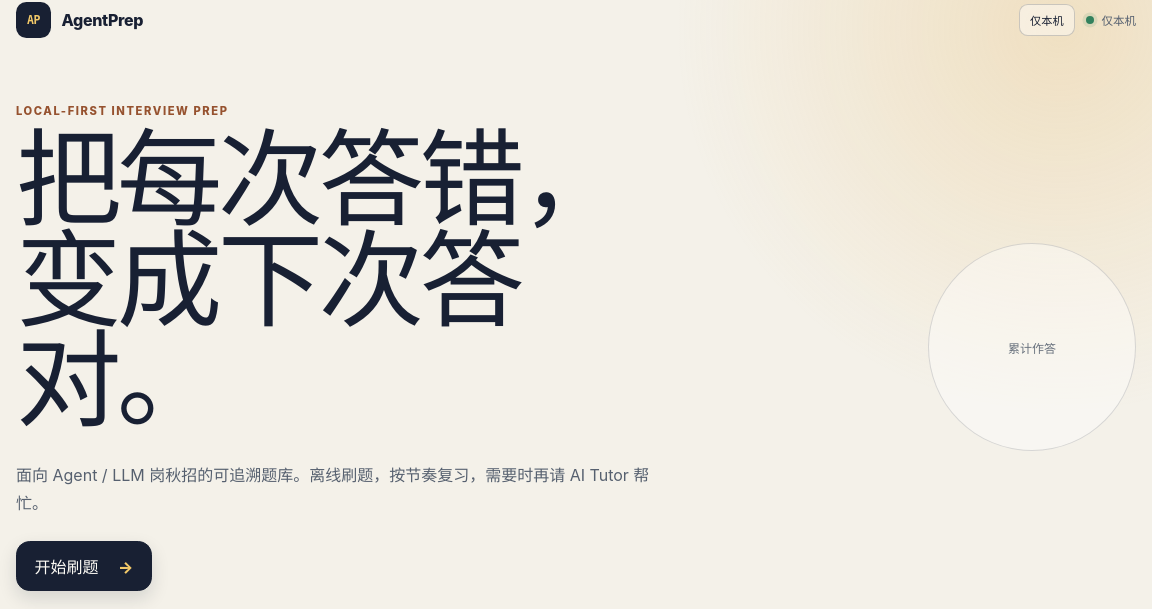
Scenario: App › hides PWA installation and keeps Tutor disabled in the desktop runtime
Click the button "开始刷题 →".
click(84, 566)  # box [16,540,152,591]
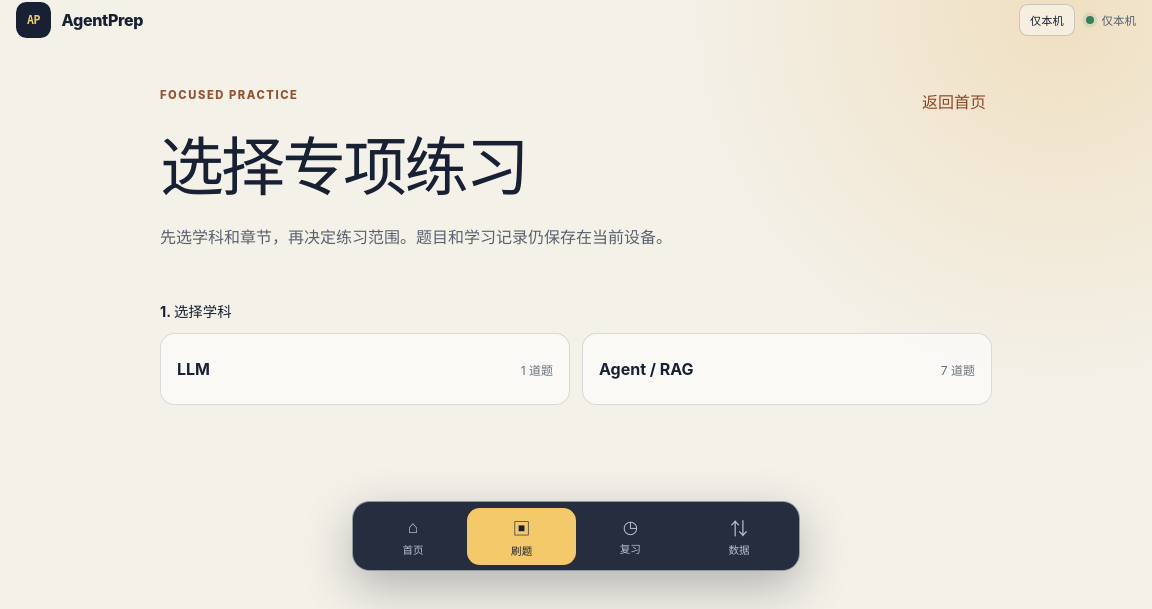
Click the button "Agent / RAG 7 道题".
click(646, 369)  # box [582,333,992,405]
(page scrolled)
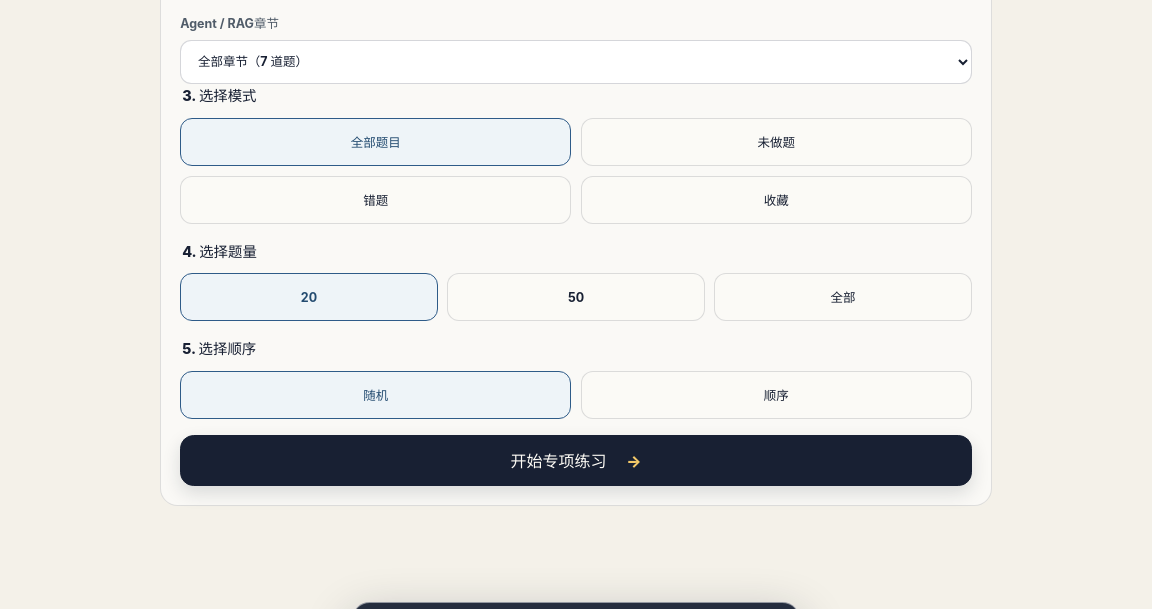
Click the radio button labelled "顺序".
click(776, 395)  # box [581,371,972,419]
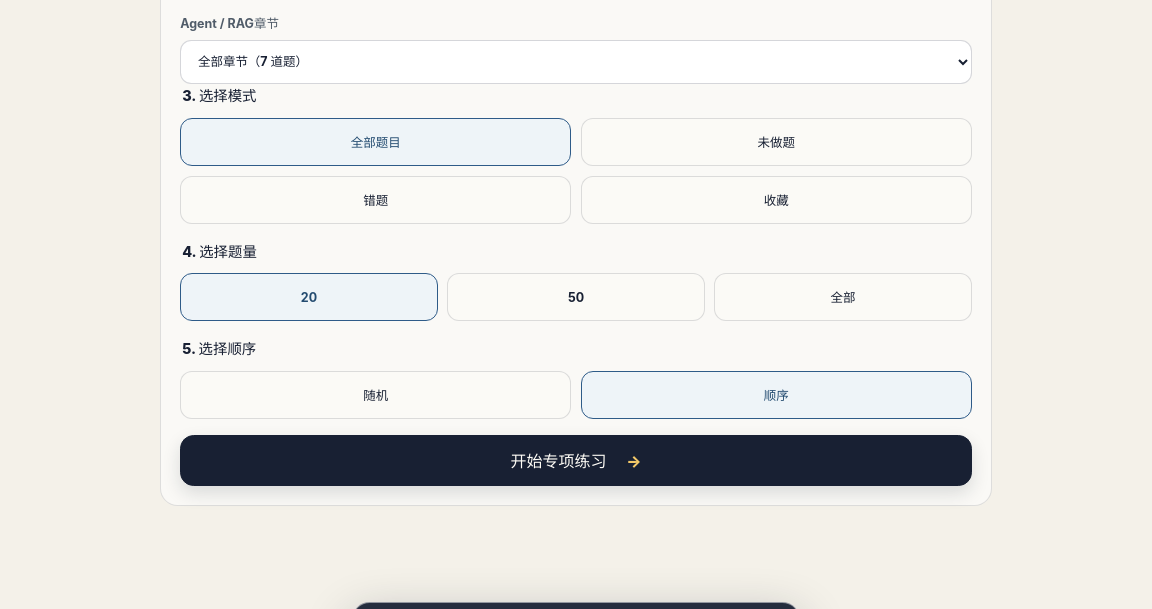
Click the button "开始专项练习 →".
click(576, 460)  # box [180,435,972,486]
(page scrolled)
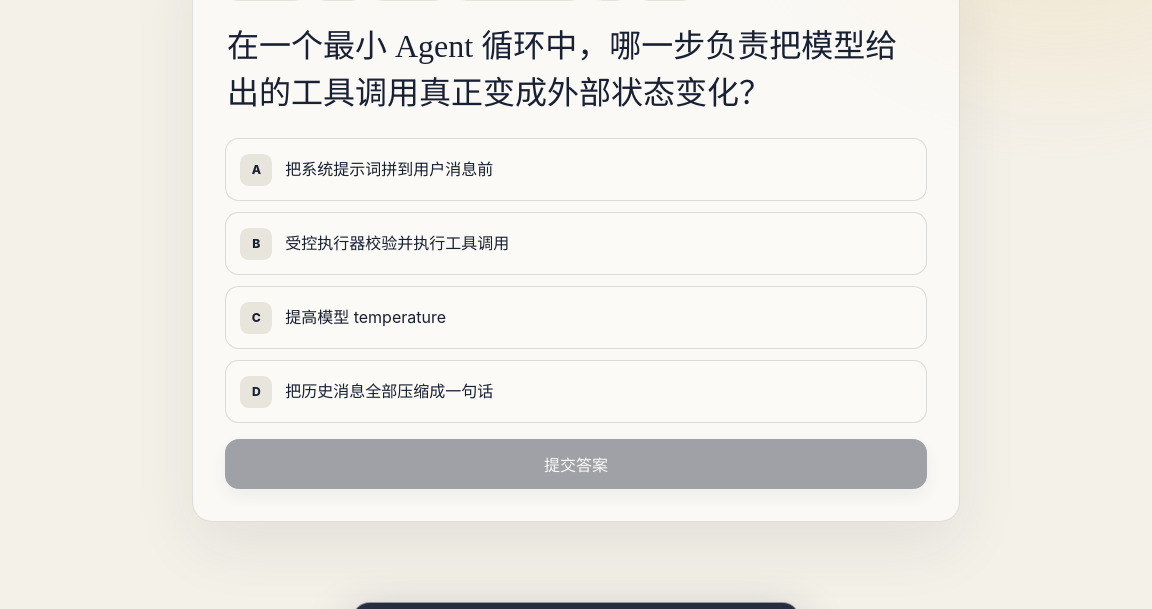
Result: the text "受控执行器校验并执行工具调用" is shown at [285,233,509,253]
Click the radio button labelled "B 受控执行器校验并执行工具调用".
click(256, 244)  # box [225,212,927,275]
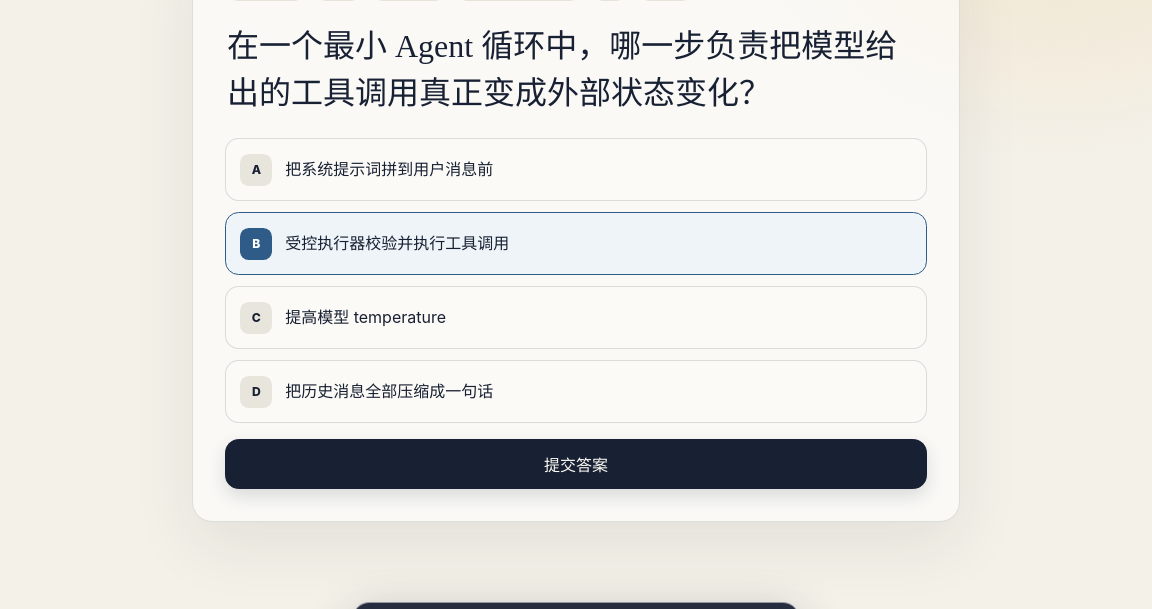
Click the button "提交答案".
click(576, 464)  # box [225,439,927,489]
(page scrolled)
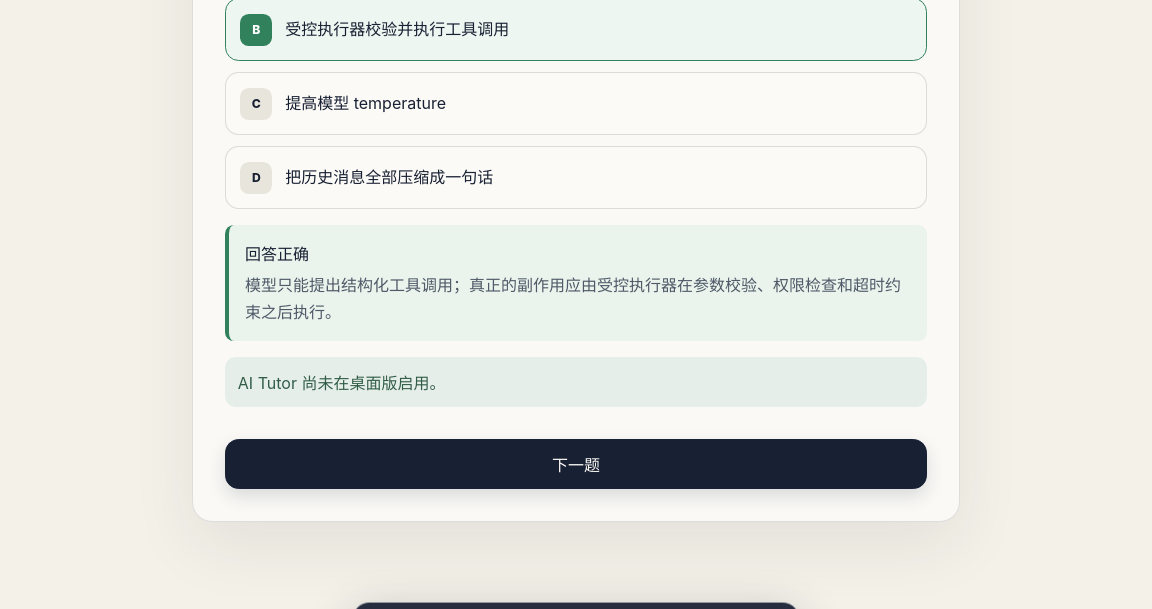
Result: the text "AI Tutor 尚未在桌面版启用。" is shown at [225,357,927,407]
